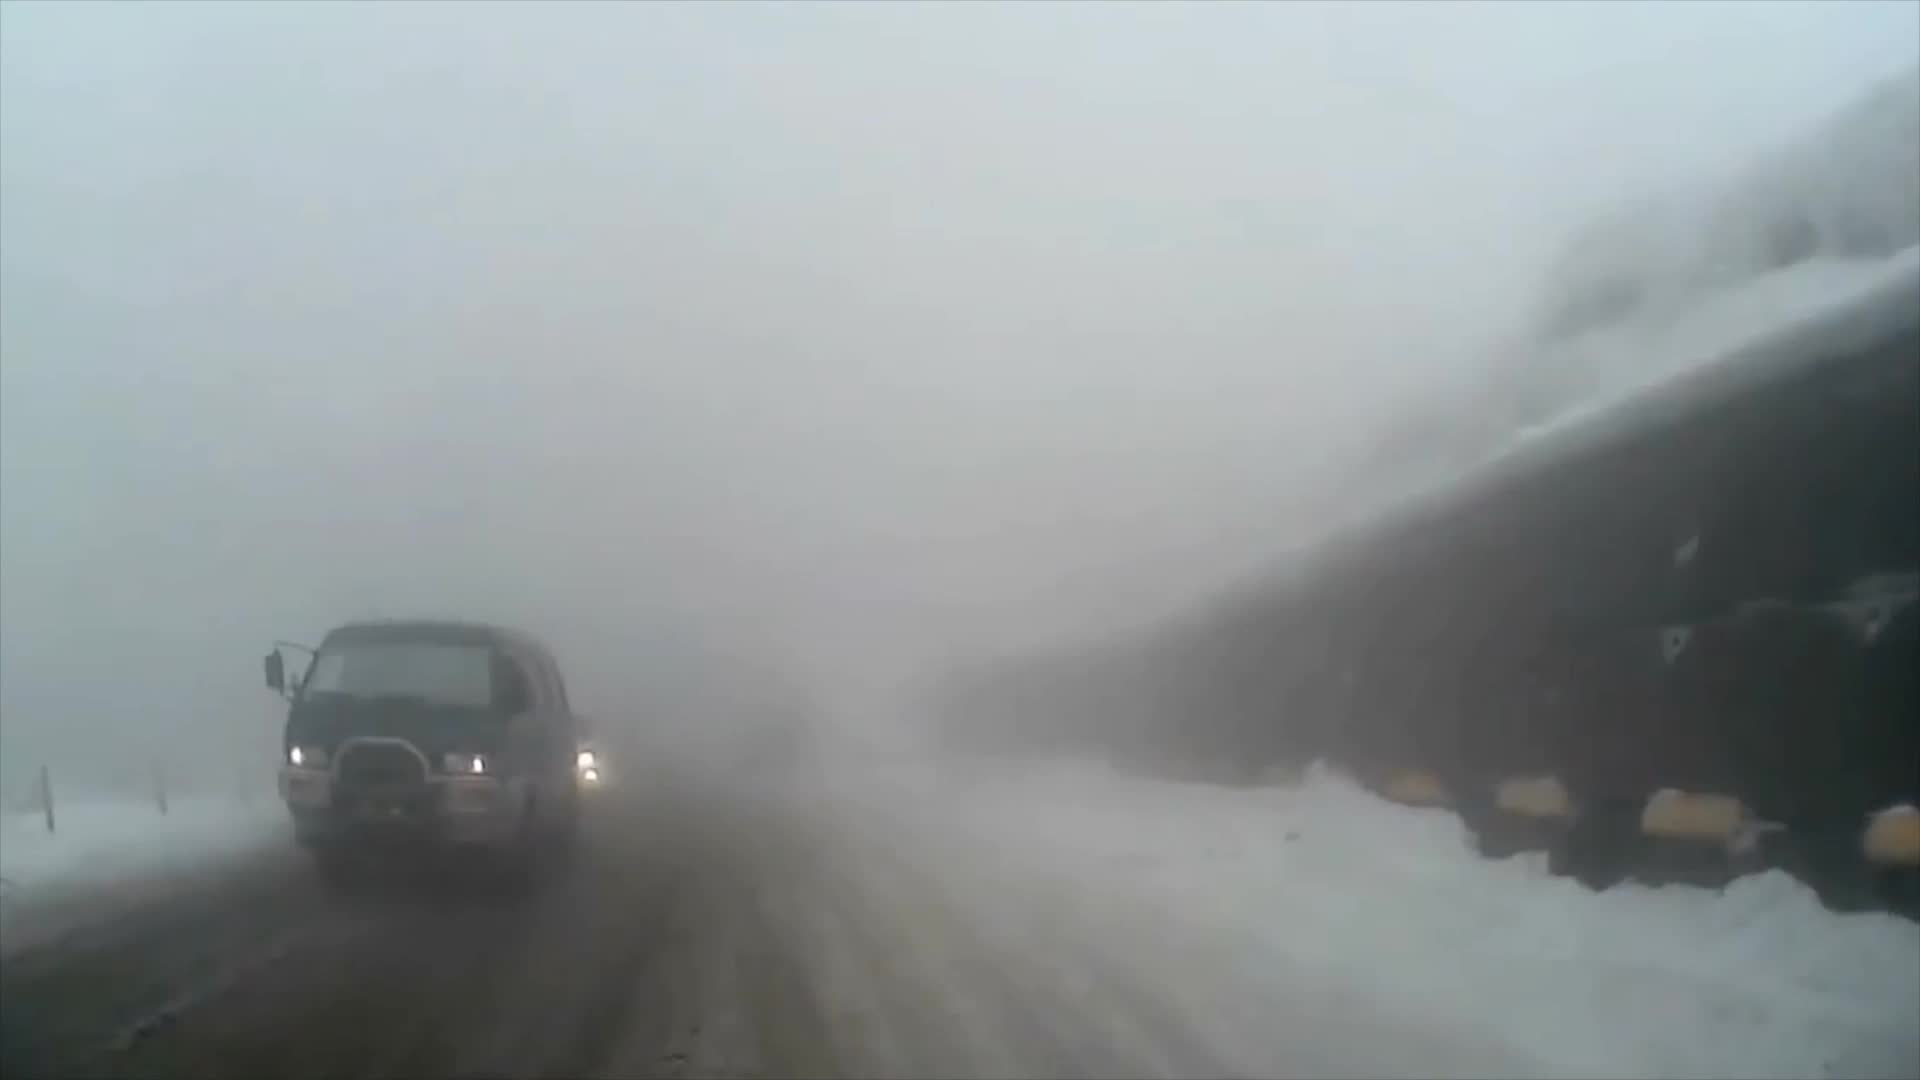vehicle: (258, 609, 582, 902)
